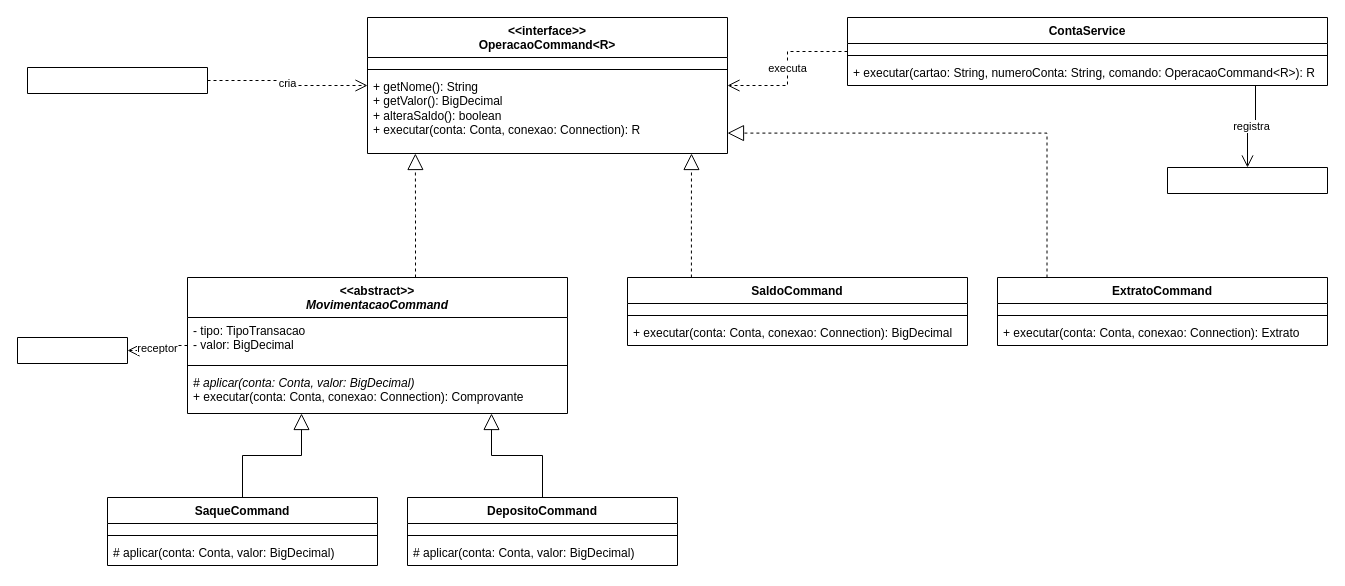
This 1345x586 diagram has some shape labels left out. The centre of each missing label's shape, as x and y in pixels:
ApiController: point (117, 80)
Conta: point (72, 350)
OperacaoLogDAO: point (1247, 180)
